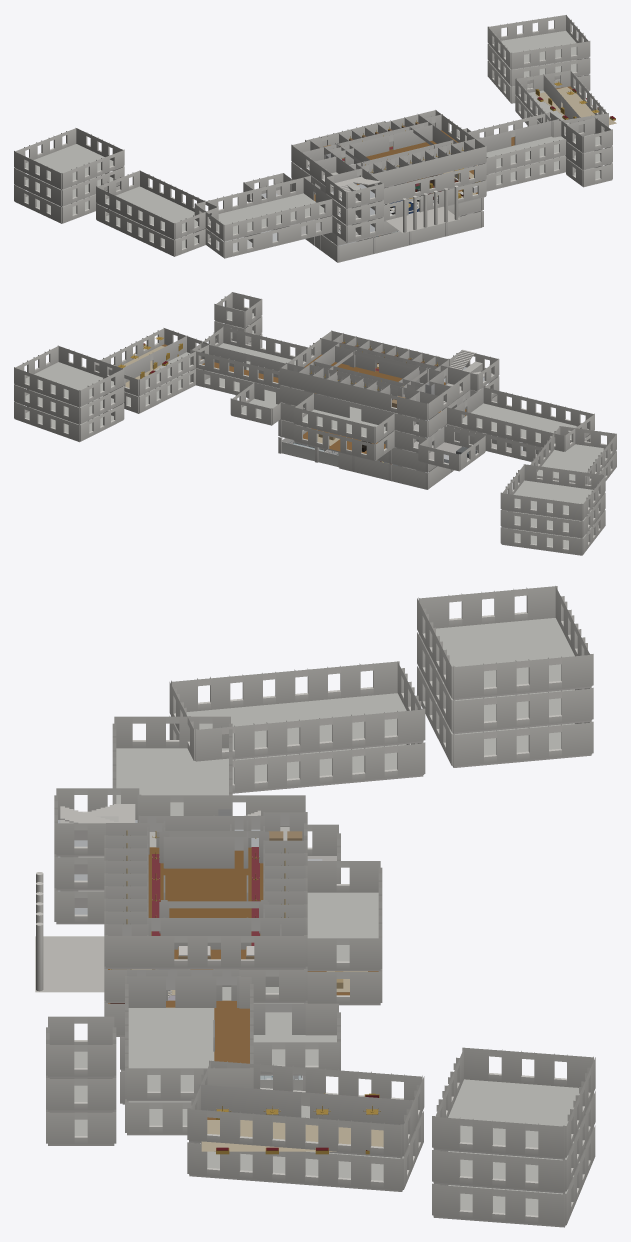
Rendered from house.glb.
The picture shows the model from 3 angles, top to bottom: view 1: azimuth 30°, elevation 25°; view 2: azimuth 150°, elevation 25°; view 3: azimuth 270°, elevation 25°; orthographic projection. The views are drawn at different scales.
Visible parts, largest first — view 1: f_F2_struct, f_F3_struct, f_F1_struct, f_B2_struct, f_F2_furn, f_B1_struct; view 2: f_F2_struct, f_F3_struct, f_F1_struct, f_B2_struct, f_B1_struct, f_B2_med, f_F2_furn; view 3: f_F2_struct, f_F3_struct, f_F1_struct, f_F2_furn, f_F3_furn.
Part boxes in pixels (x1=…): f_F2_struct: x1=14, y1=43, x2=612, y2=241; f_F3_struct: x1=14, y1=15, x2=612, y2=208; f_F1_struct: x1=14, y1=60, x2=612, y2=258; f_B2_struct: x1=305, y1=210, x2=483, y2=262; f_F2_furn: x1=407, y1=81, x2=616, y2=191; f_B1_struct: x1=323, y1=197, x2=483, y2=245; f_F2_struct: x1=14, y1=316, x2=616, y2=538; f_F3_struct: x1=14, y1=292, x2=605, y2=520; f_F1_struct: x1=14, y1=333, x2=616, y2=555; f_B2_struct: x1=278, y1=437, x2=453, y2=489; f_B1_struct: x1=278, y1=419, x2=435, y2=472; f_B2_med: x1=281, y1=438, x2=338, y2=466; f_F2_furn: x1=113, y1=336, x2=182, y2=387; f_F2_struct: x1=46, y1=632, x2=595, y2=1193; f_F3_struct: x1=46, y1=586, x2=595, y2=1159; f_F1_struct: x1=35, y1=666, x2=595, y2=1227; f_F2_furn: x1=110, y1=969, x2=383, y2=1154; f_F3_furn: x1=123, y1=830, x2=302, y2=959.
Bounding box in the file's own units: 154 × 22.8 × 67.34.
